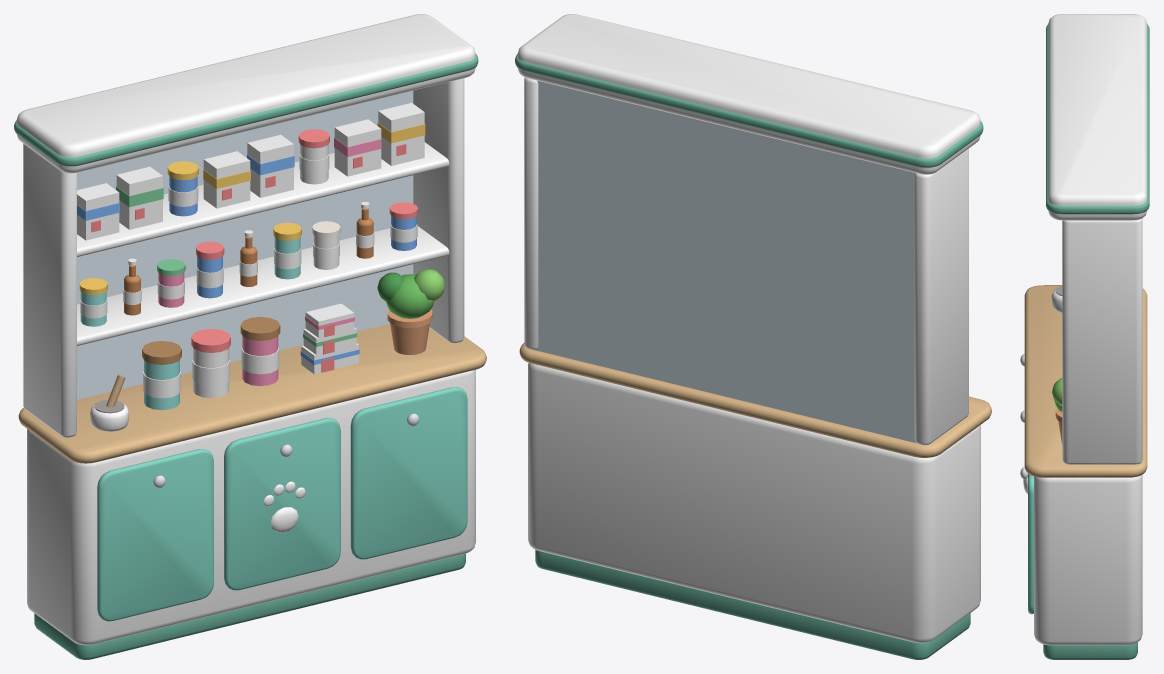
The model's file is med_cabinet.glb.
3 views of the same model, side by side, from view 1: azimuth 30°, elevation 25°; view 2: azimuth 150°, elevation 25°; view 3: azimuth 270°, elevation 25° (orthographic). The views are drawn at different scales.
Parts seen in each view (by area): view 1: med_cabinet; view 2: med_cabinet; view 3: med_cabinet.
Part boxes in pixels (x1,y1,x2,y2): med_cabinet: [14, 14, 486, 659]; med_cabinet: [515, 14, 991, 659]; med_cabinet: [1020, 14, 1149, 659].
Size of the model in its own units: 1.88 by 2.2 by 0.5482.
